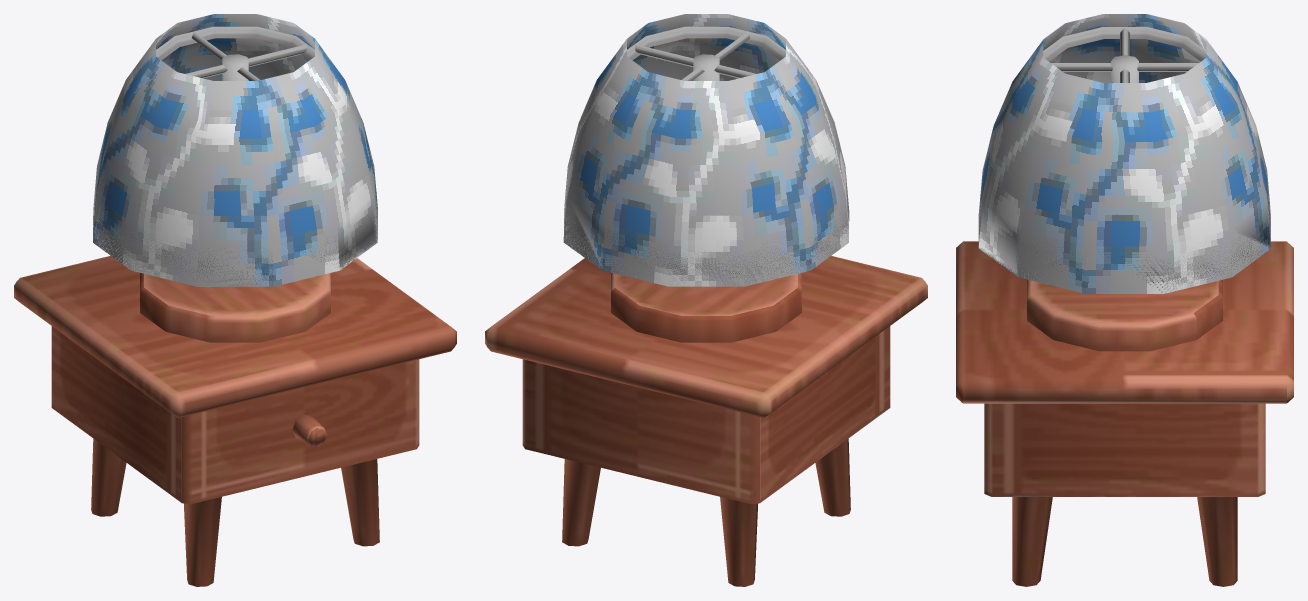
File: rmk_scd_lamp.dae
The picture shows the model from 3 angles, left to right: view 1: azimuth 30°, elevation 25°; view 2: azimuth 150°, elevation 25°; view 3: azimuth 270°, elevation 25°; orthographic projection. The views are drawn at different scales.
Visible parts, largest first — view 1: vsn_mesh_1_, vsn_mesh_0_; view 2: vsn_mesh_1_, vsn_mesh_0_; view 3: vsn_mesh_1_, vsn_mesh_0_.
Boxes of the visible parts, box(x1,y1,x2,y2) form: vsn_mesh_1_: box(14, 26, 456, 586); vsn_mesh_0_: box(93, 14, 377, 286); vsn_mesh_1_: box(485, 26, 927, 586); vsn_mesh_0_: box(563, 14, 849, 286); vsn_mesh_1_: box(956, 27, 1293, 586); vsn_mesh_0_: box(978, 14, 1270, 293).
Size of the model in its own units: 24 by 38.49 by 24.
2 materials, 2 textured.
